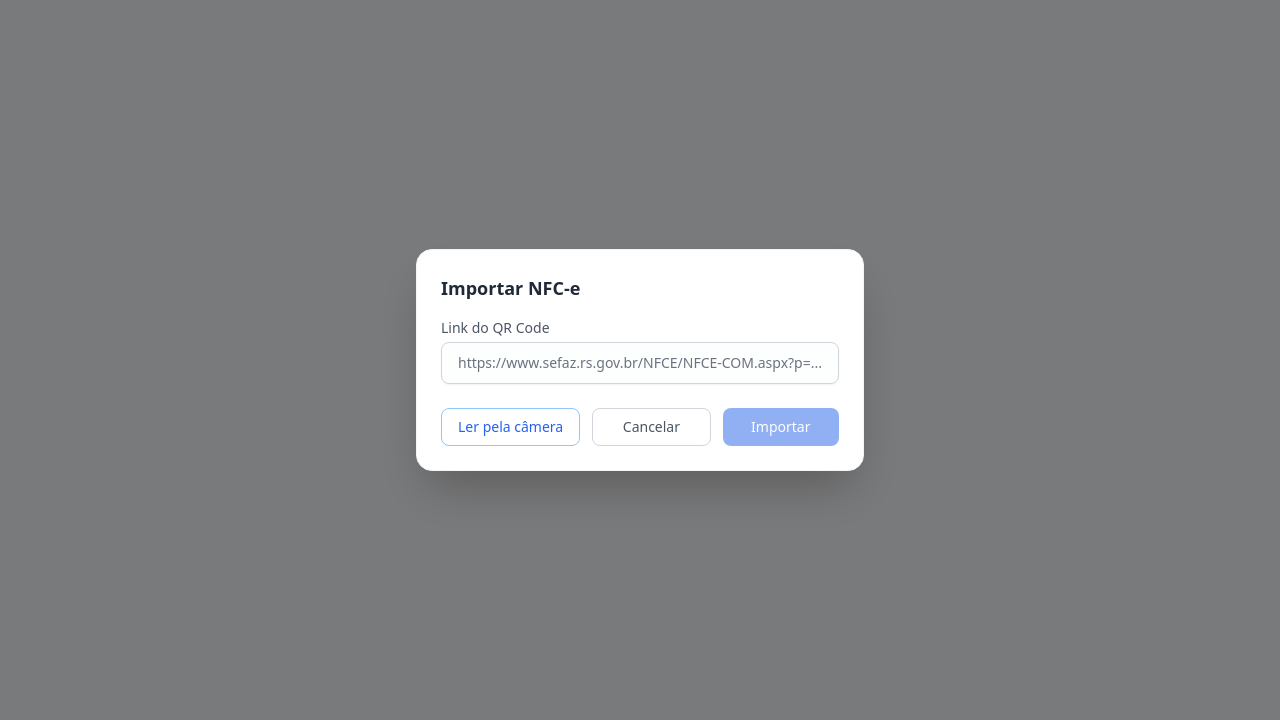
Scenario: ImportarNfceModal › mostra o erro da API no modal
This screenshot has width=1280, height=720.
In the field with test id "input-nfce-url": (640, 363) [441,342,839,384], type "https://www.sefaz.rs.gov.br/NFCE/NFCE-COM.aspx?p=43|2|1|2|ABC"
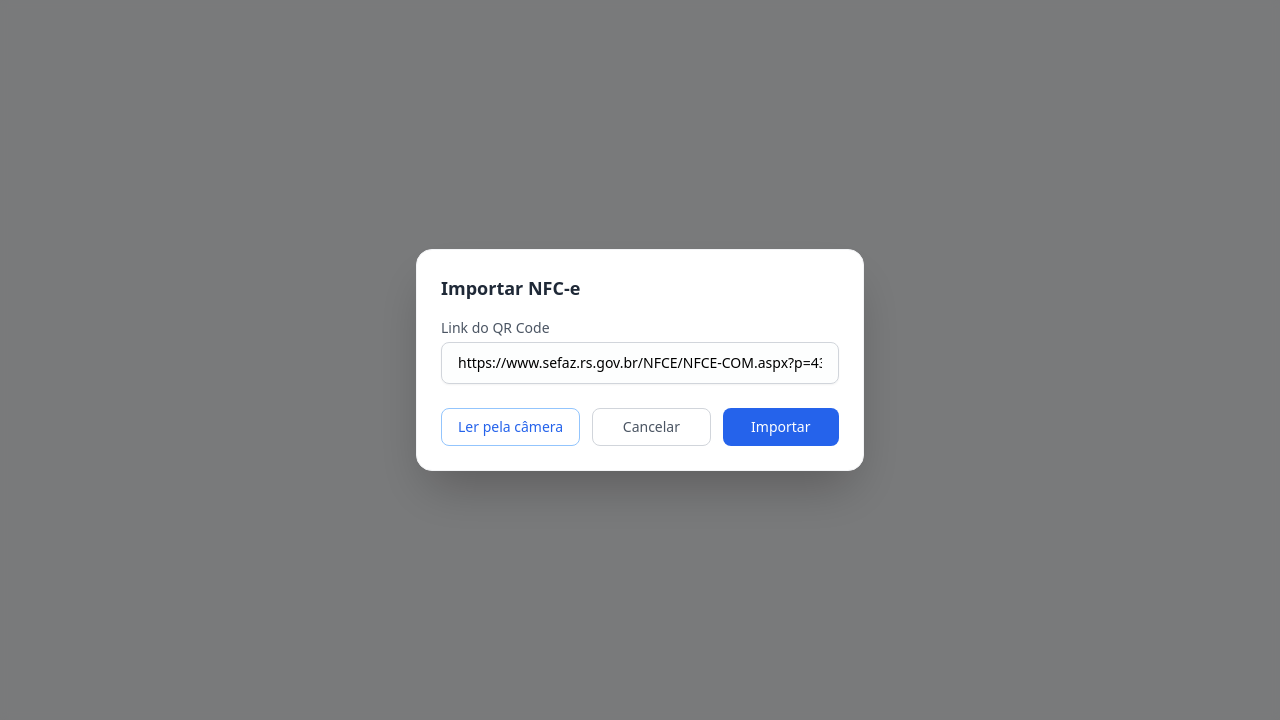
Submit the form with test id "form-importar-nfce", box [416,249,864,471]
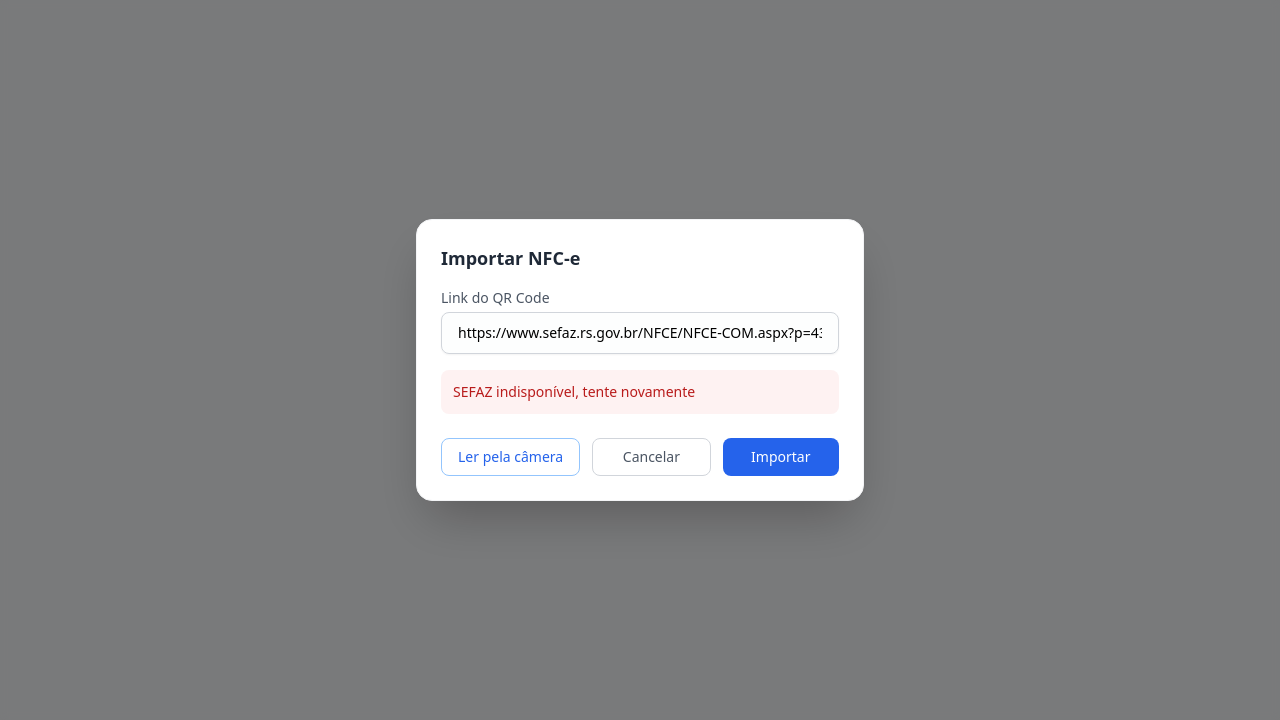
Now the text with test id "nfce-erro" reads "SEFAZ indisponível, tente novamente", box [453,382,695,401]
